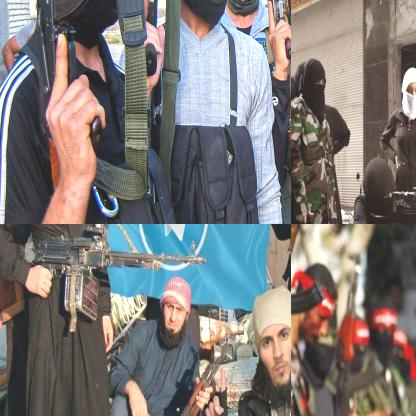rifle: (20, 0, 115, 193), (0, 228, 206, 317), (168, 335, 234, 415), (291, 224, 323, 323), (142, 0, 175, 76), (256, 0, 290, 60)
